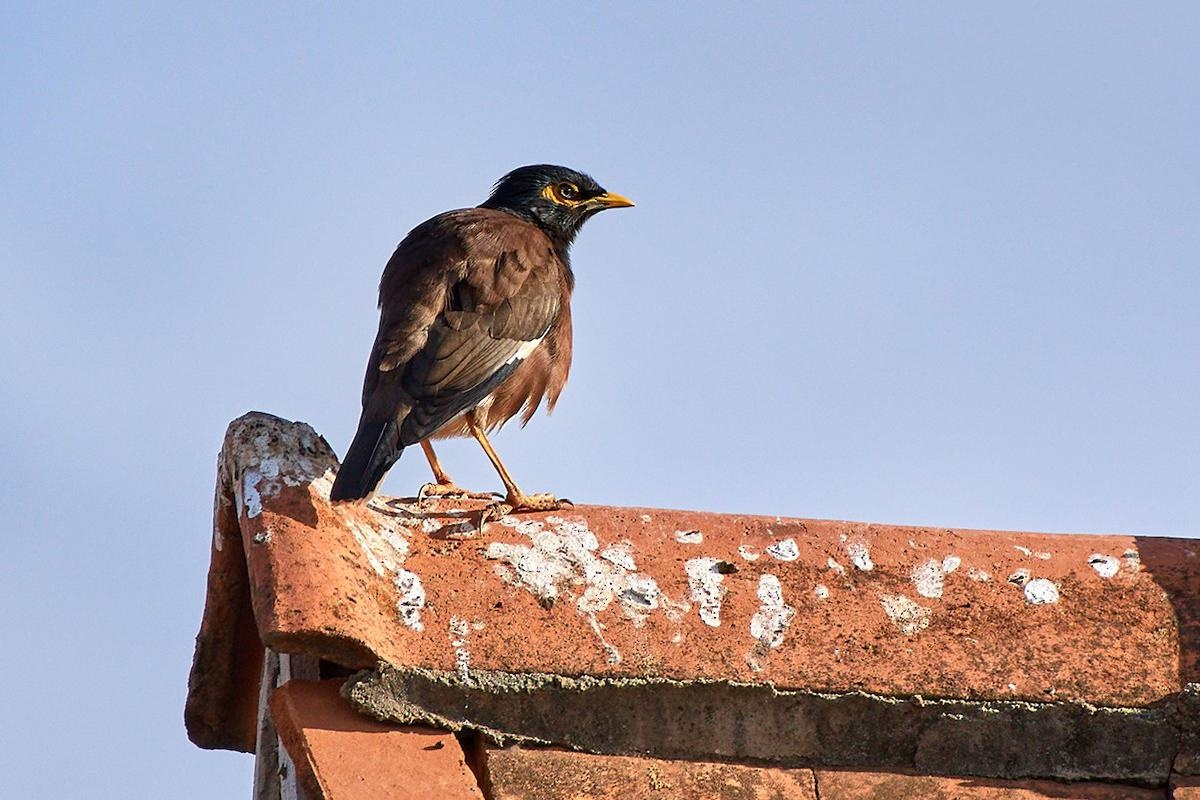myna: (246, 148, 675, 520)
